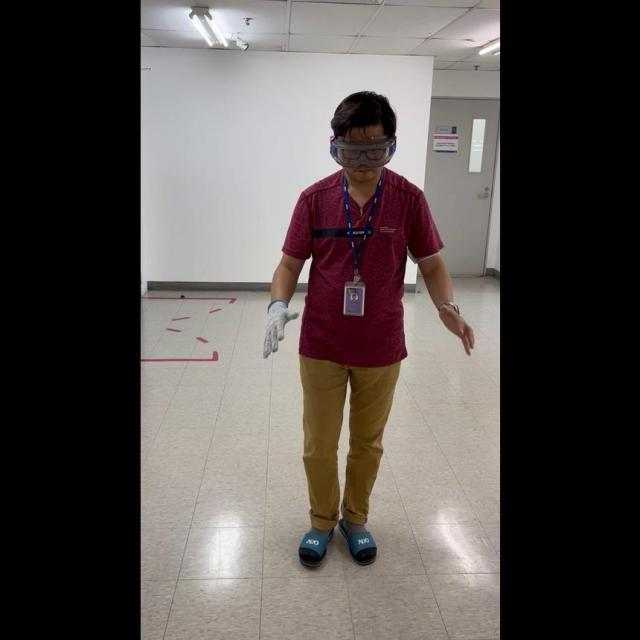bare_hand: (435, 298, 475, 355)
gloved_hand: (260, 296, 301, 357)
